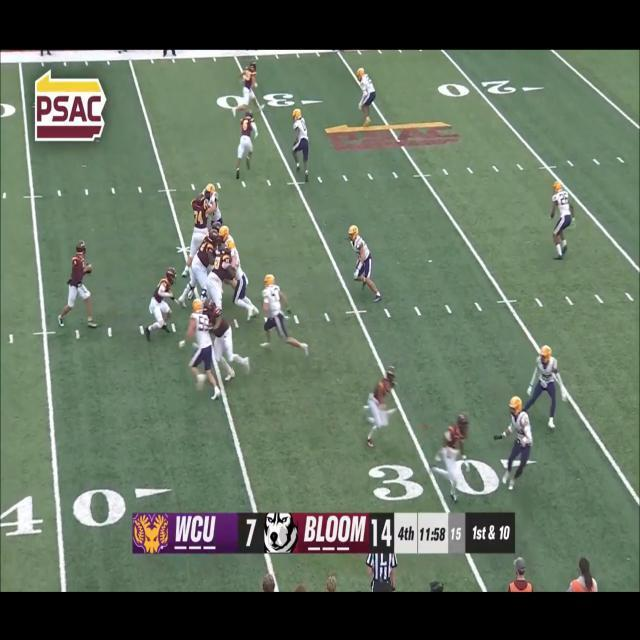football: (84, 257, 92, 280)
